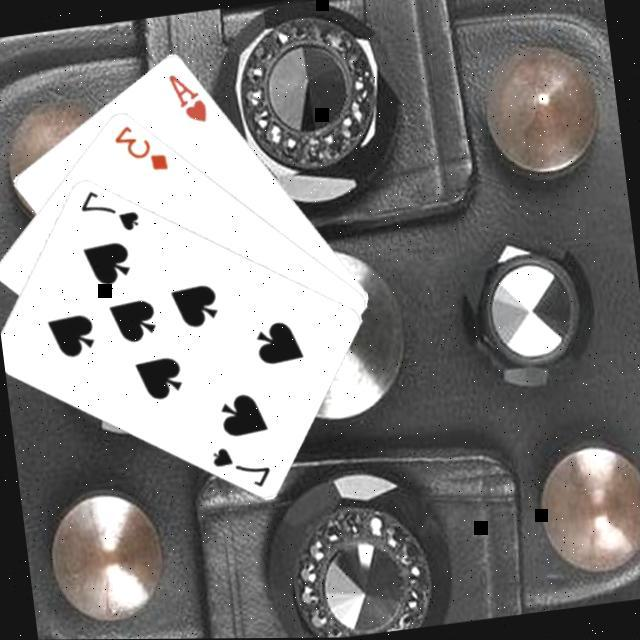3D: (110, 117, 173, 180)
7S: (76, 182, 144, 241), (208, 439, 276, 496)
AH: (166, 68, 213, 131)
